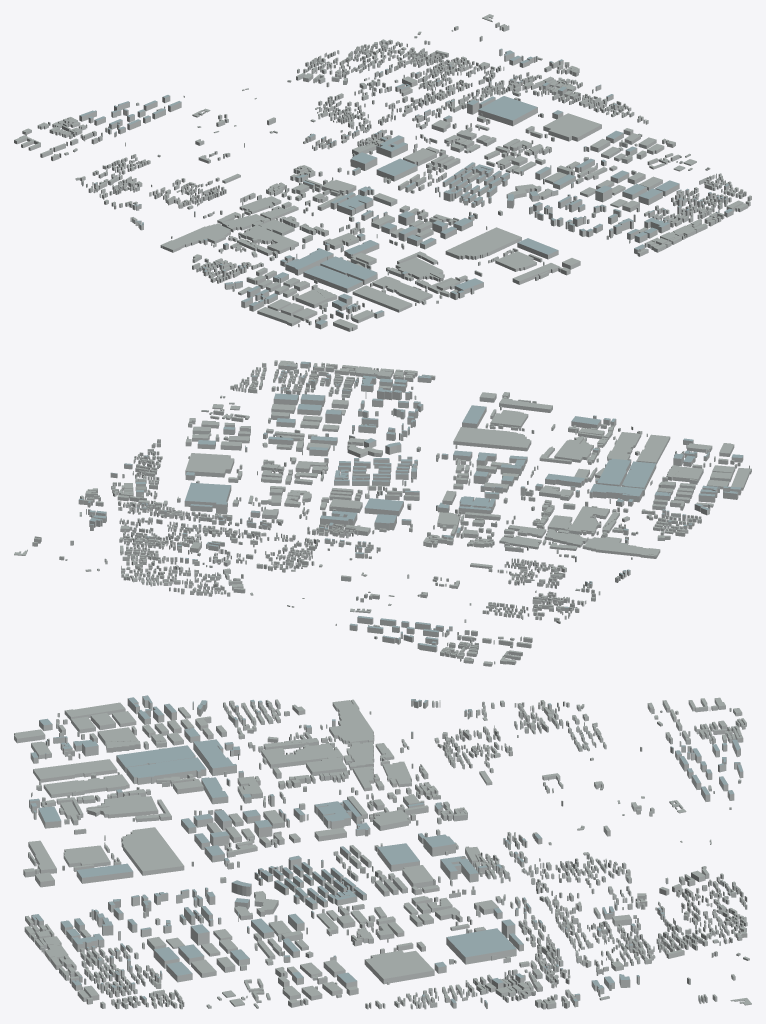
The model's file is far.glb.
3 views of the same model, one above another, from view 1: azimuth 30°, elevation 25°; view 2: azimuth 150°, elevation 25°; view 3: azimuth 270°, elevation 25° (orthographic). The views are drawn at different scales.
Size of the model in its own units: 2124 by 39.31 by 2150.
